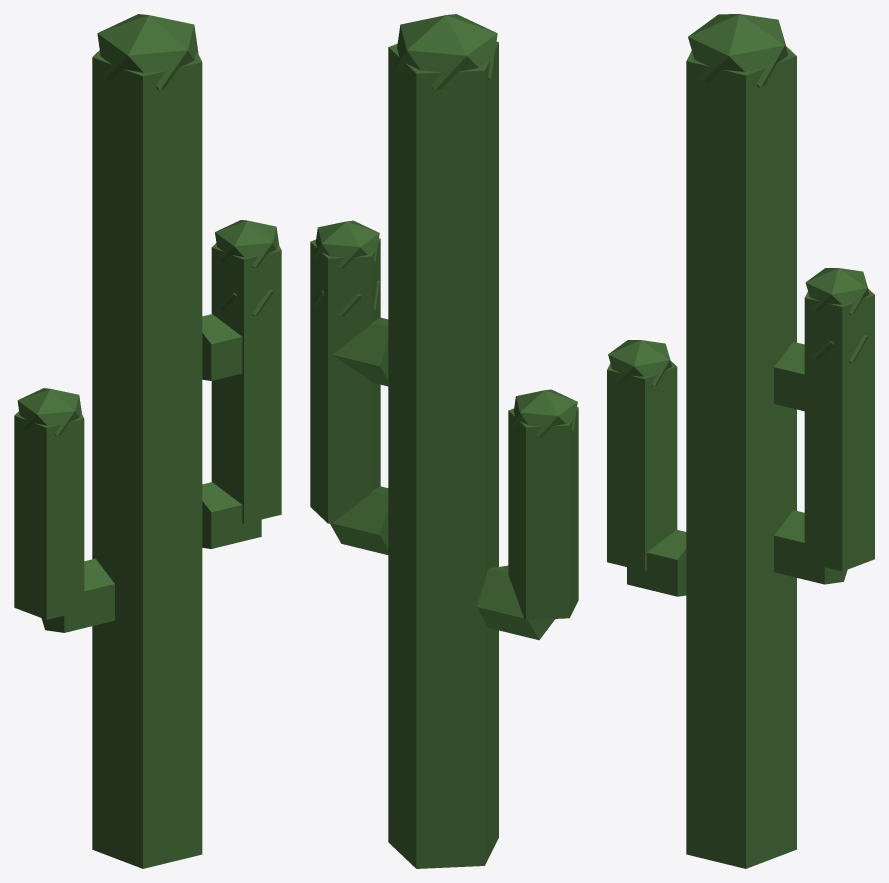
The model's file is bg_desert_cactus_4_lod1.glb.
3 renders of one model, left to right at view 1: azimuth 30°, elevation 25°; view 2: azimuth 150°, elevation 25°; view 3: azimuth 330°, elevation 25°, orthographic.
Parts seen in each view (by area): view 1: body; view 2: body; view 3: body.
Boxes of the visible parts, <box> form: body: <box>14,14,281,868</box>; body: <box>310,14,578,868</box>; body: <box>607,14,874,868</box>.
Size of the model in its own units: 1.13 by 3.45 by 0.4071.
